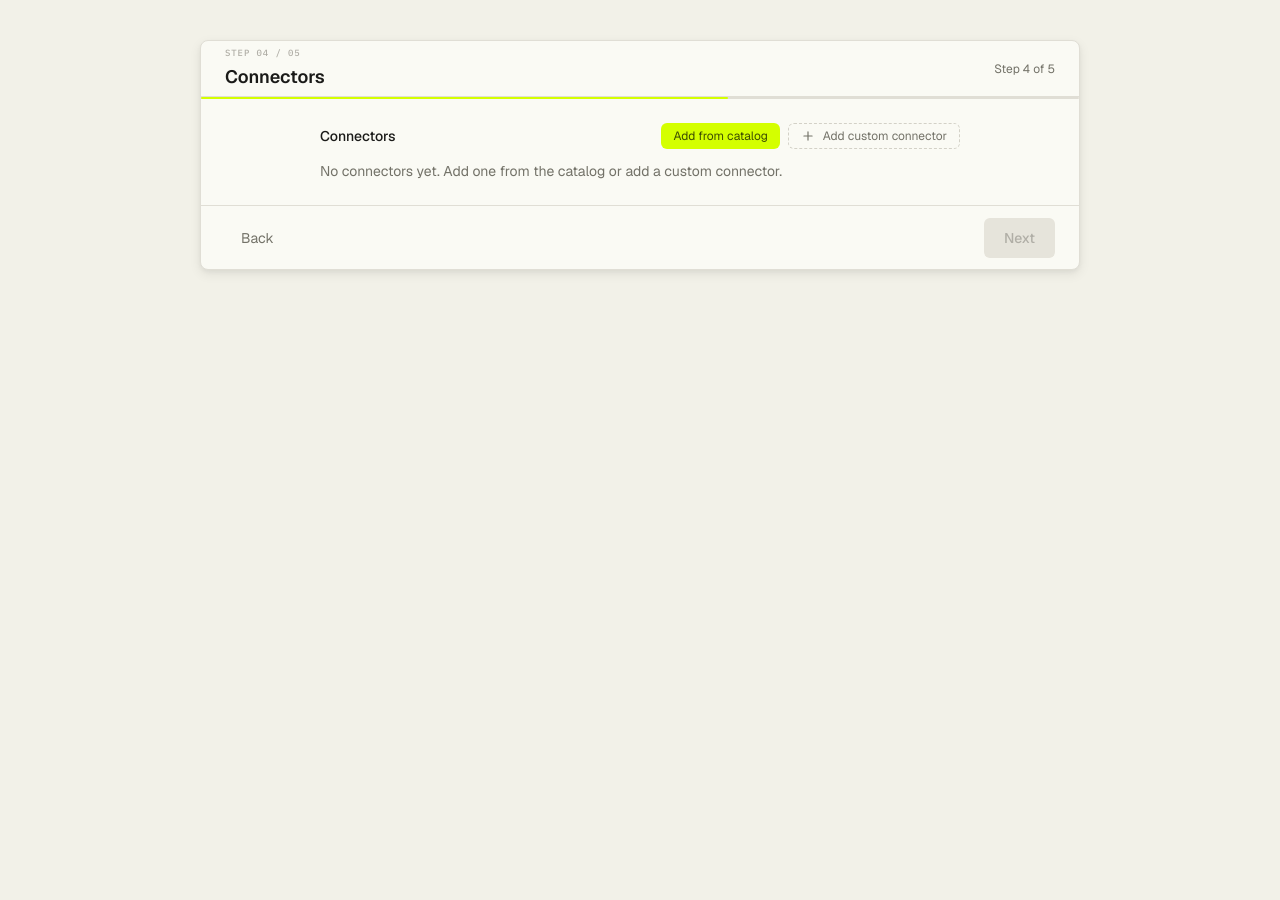
Test: ConnectorsStep › Add custom connector button toggles the form
Click the button "Add custom connector".
click(874, 136)  # box left=788, top=123, right=960, bottom=149
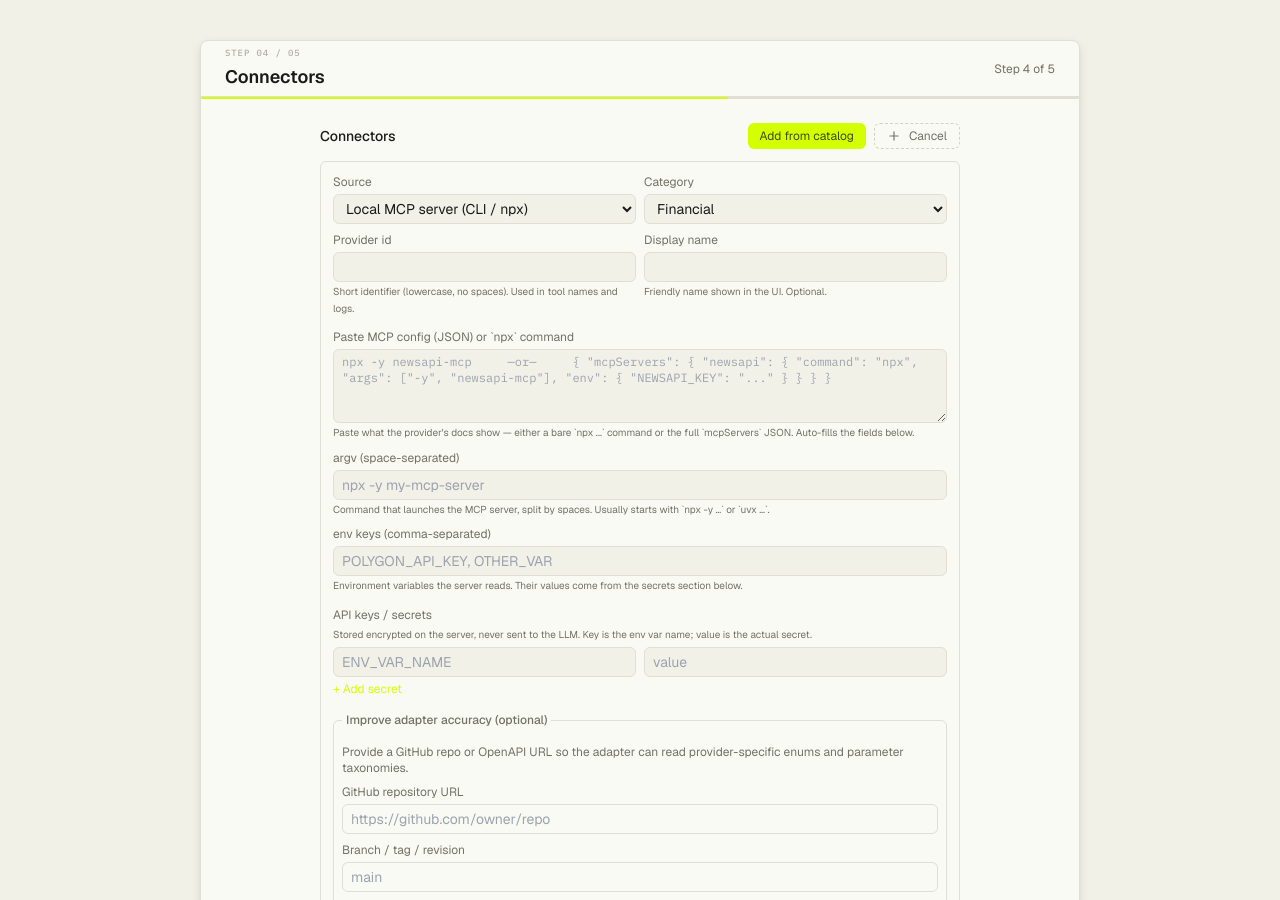
Expected: the dropdown labelled "Source" is shown, left=333, top=194, right=636, bottom=224
